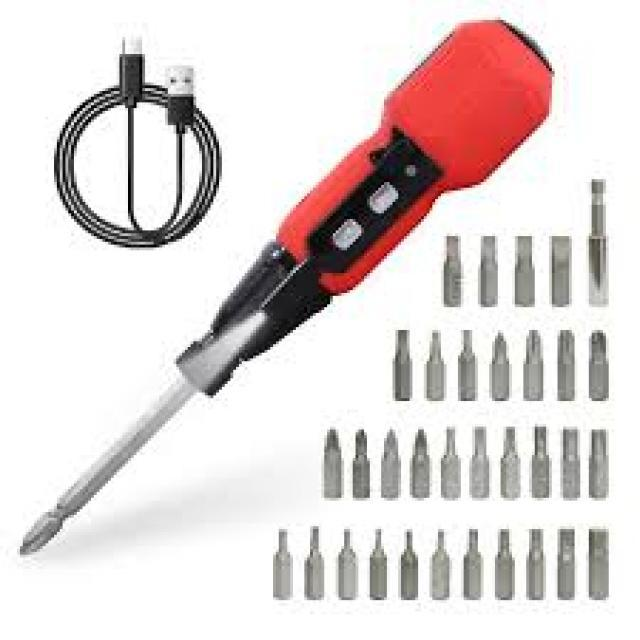screwdriver: (20, 11, 555, 558)
